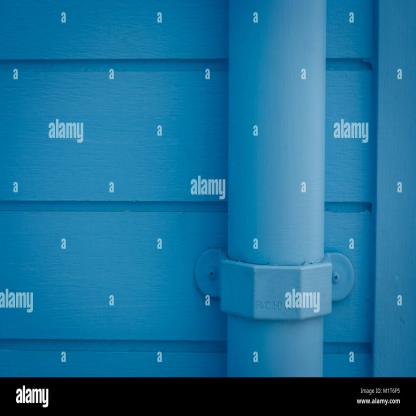PVC: (228, 2, 327, 377)
